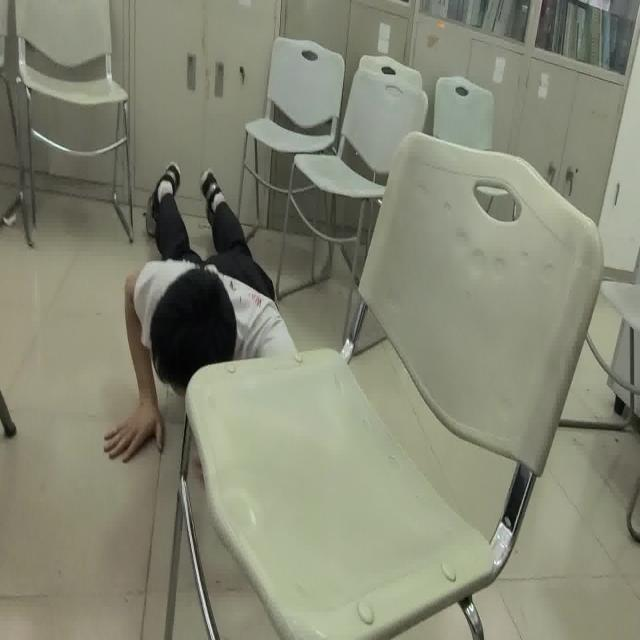fall: (102, 165, 298, 468)
